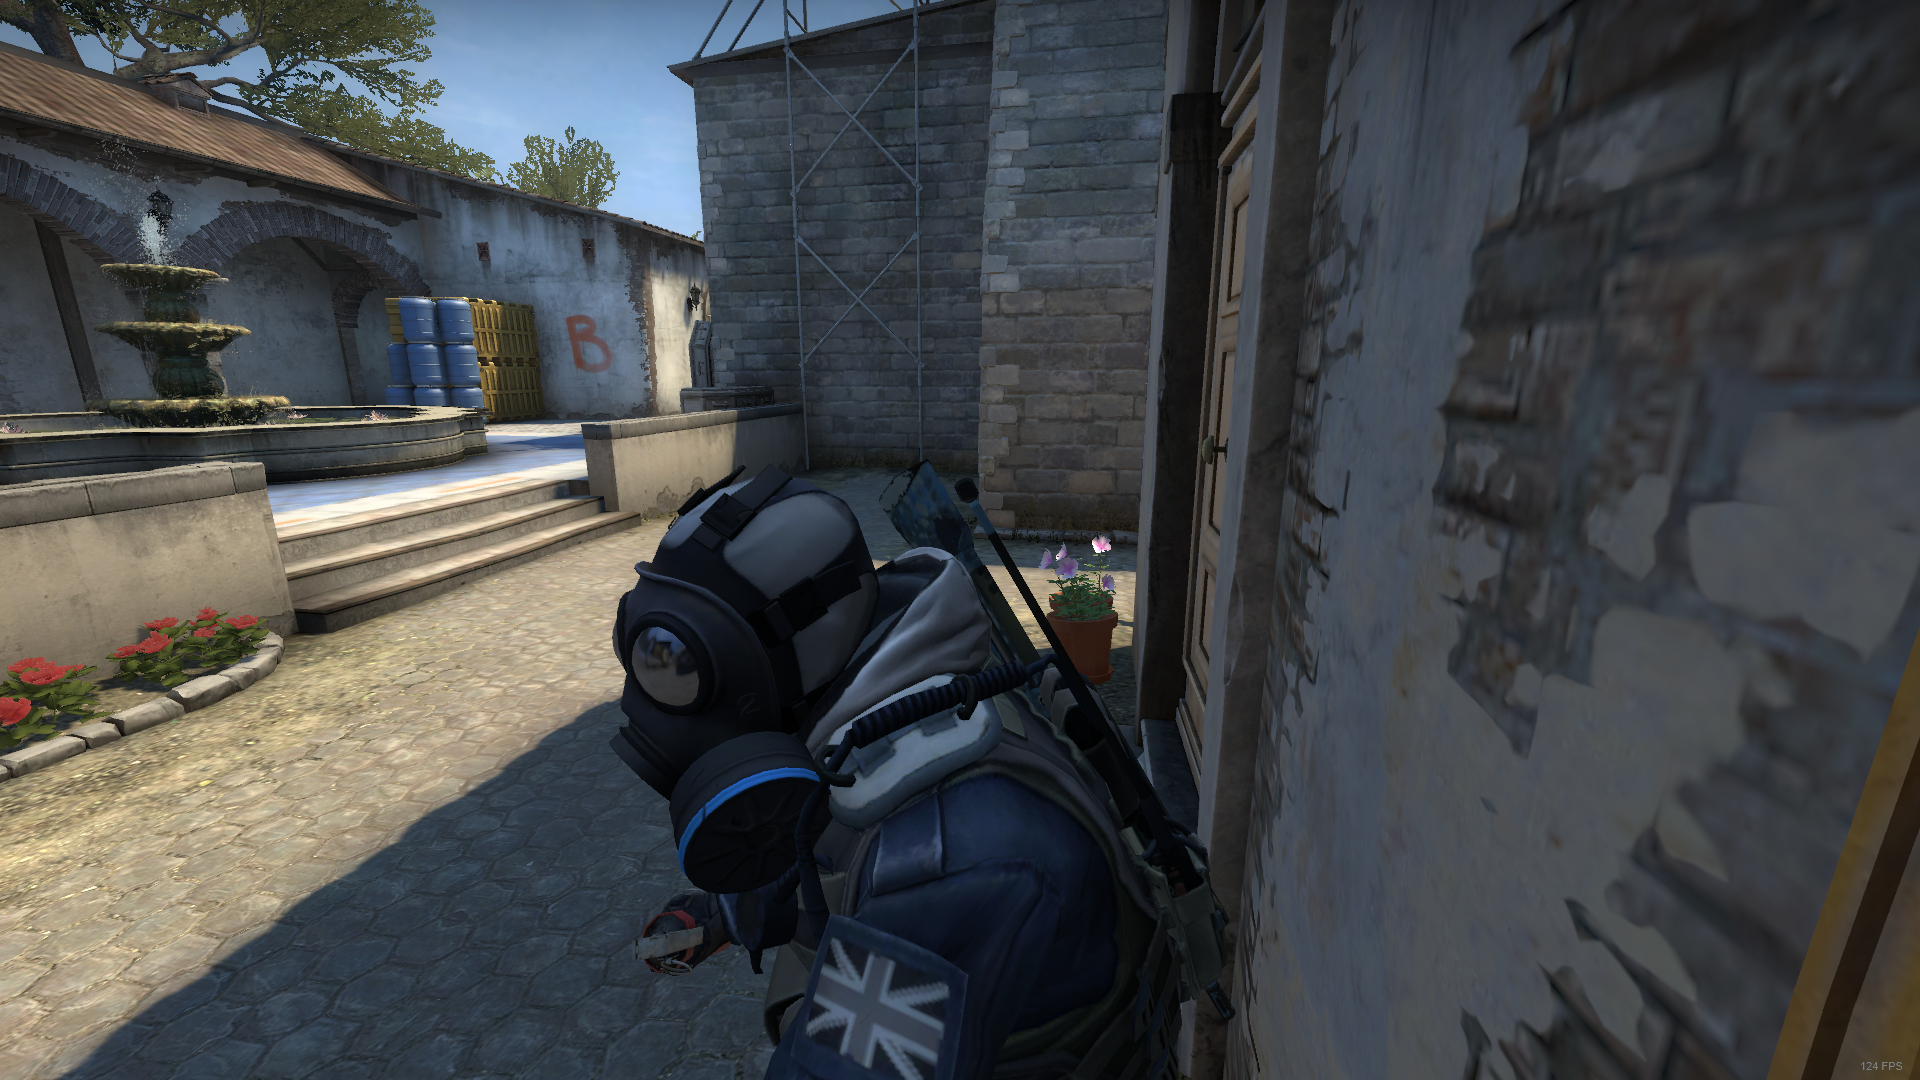ct: (585, 447, 1200, 1077)
